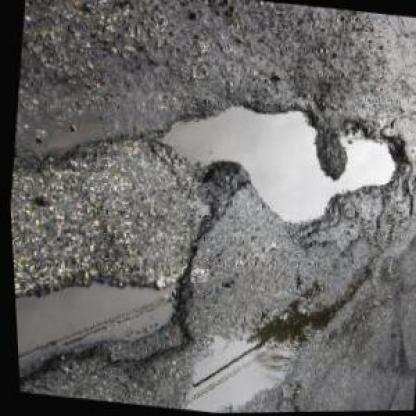pothole: (140, 87, 415, 247)
